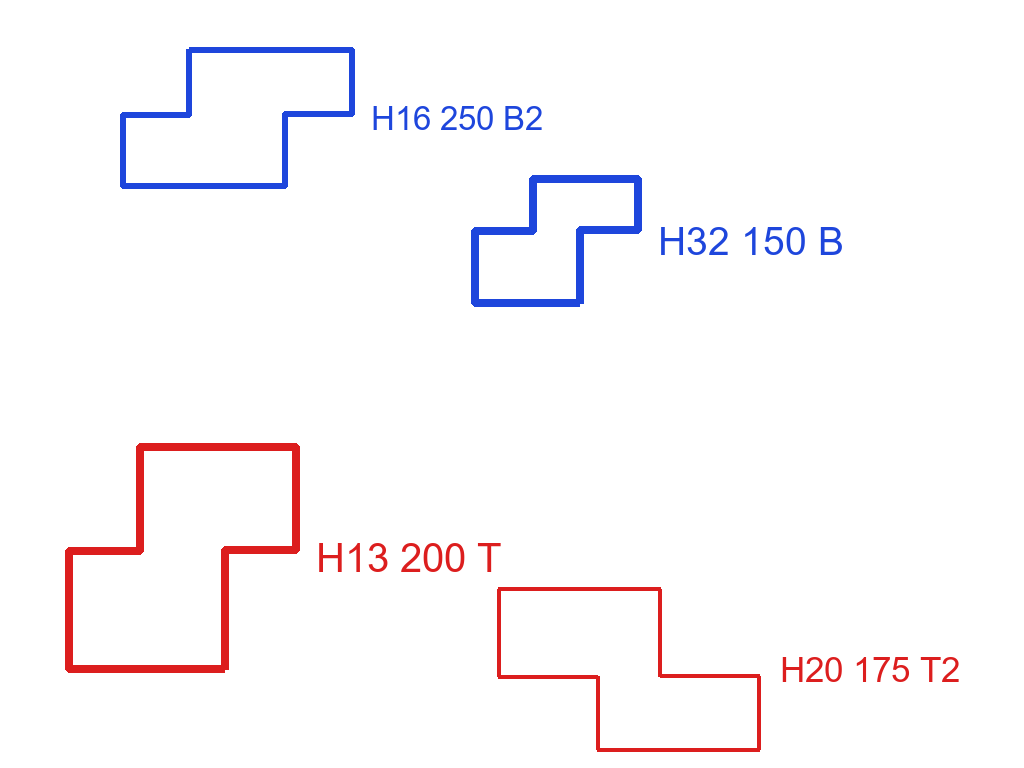shape: (63, 440, 302, 676), (495, 586, 764, 753), (118, 45, 356, 192), (469, 173, 644, 309)
text: (314, 541, 503, 574), (656, 225, 846, 257), (778, 655, 962, 684), (369, 104, 545, 132)
